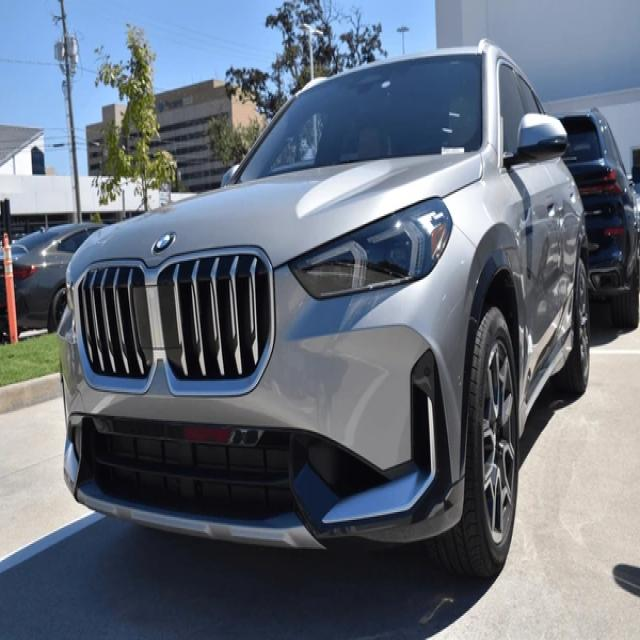bmw: (147, 225, 181, 253)
